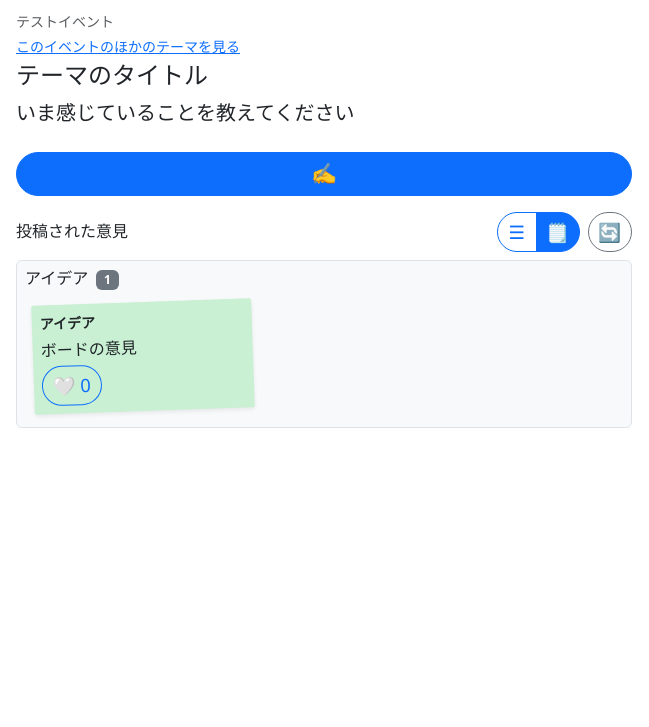
Test case: 参加者の画面 › 投稿画面から、ボードへ戻れる
Click the link named "意見を投稿する".
click(324, 174)  # box [16, 152, 632, 196]
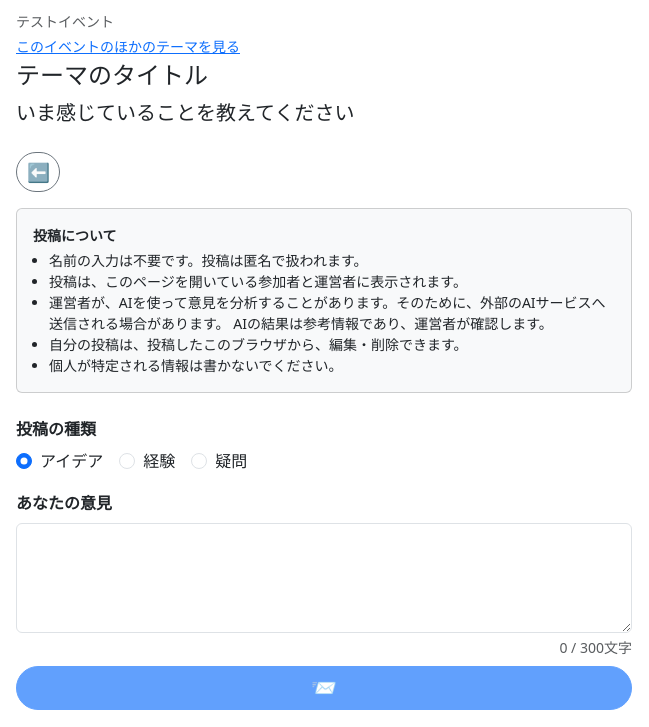
Expected: the text box labelled "あなたの意見" is shown, [16, 523, 632, 633]
Click the button named "ボードへ戻る".
click(38, 172)  # box [16, 152, 60, 192]
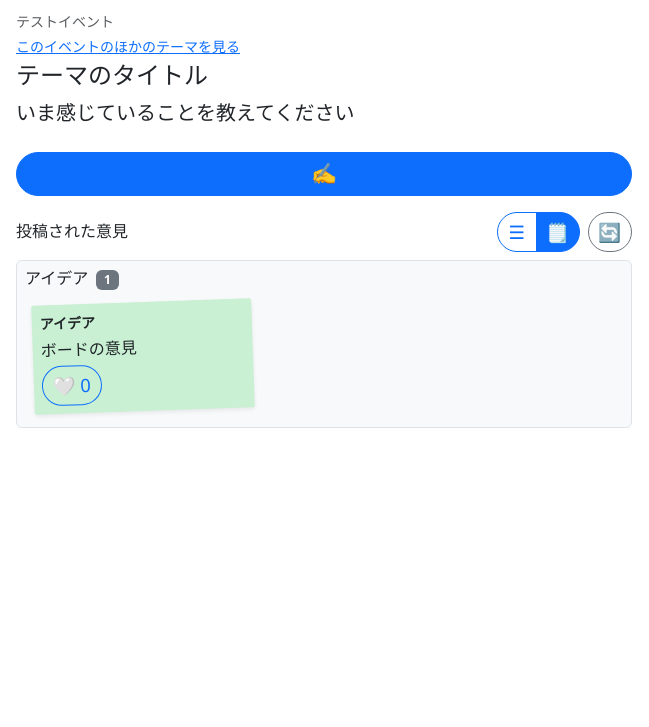
Expected: the text "ボードの意見" is shown, [40, 336, 137, 362]
Expected: the label "あなたの意見" is gone
